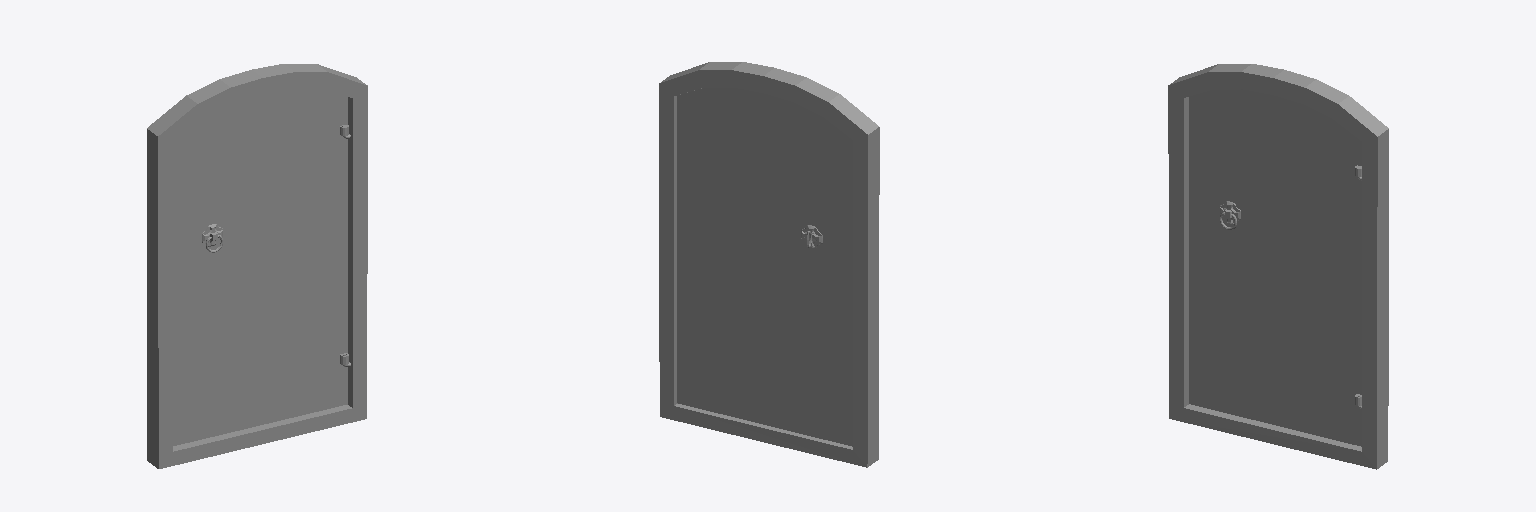
File: door.obj
3 views of the same model, side by side, from view 1: azimuth 30°, elevation 25°; view 2: azimuth 150°, elevation 25°; view 3: azimuth 330°, elevation 25° (orthographic).
Parts seen in each view (by area): view 1: door_Torus.001, frame_Torus.000; view 2: door_Torus.001, frame_Torus.000; view 3: door_Torus.001, frame_Torus.000.
Part boxes in pixels (x1,y1,x2,y2): door_Torus.001: (173, 90, 348, 445); frame_Torus.000: (147, 64, 367, 468); door_Torus.001: (677, 88, 852, 446); frame_Torus.000: (659, 62, 879, 467); door_Torus.001: (1189, 89, 1361, 446); frame_Torus.000: (1168, 64, 1388, 469).
Bounding box in the file's own units: 2.63 × 4.38 × 0.3098.